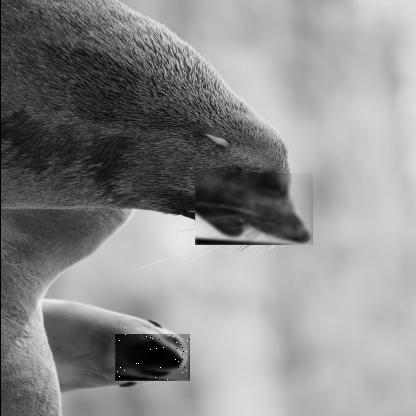face: (193, 173, 312, 246), (113, 334, 189, 382)
